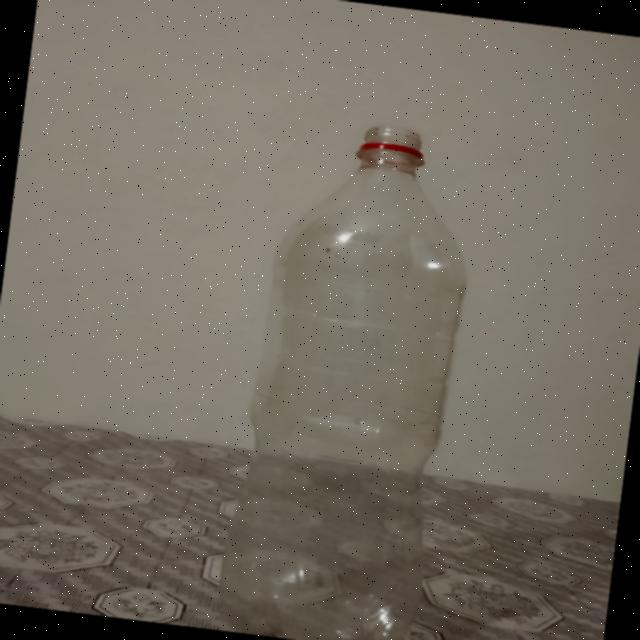bottle: (215, 98, 492, 640)
